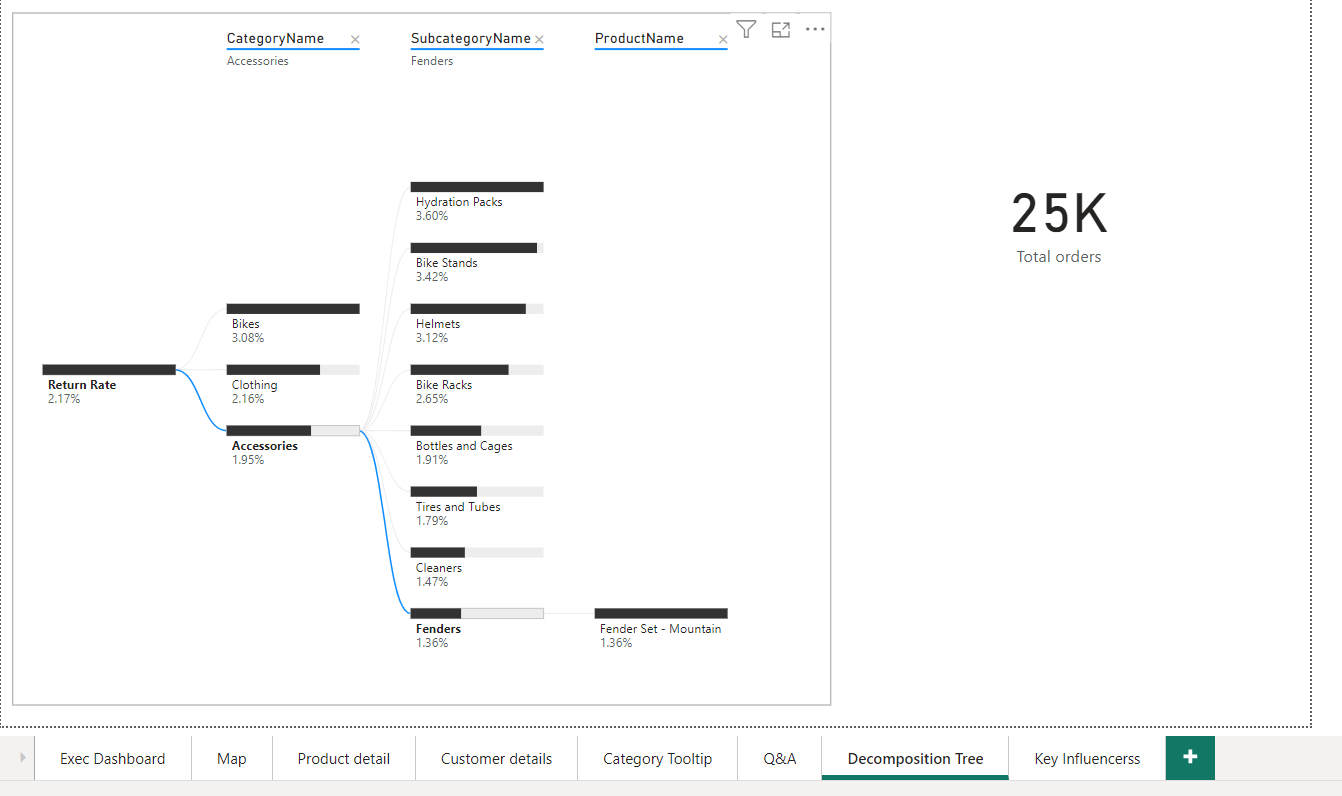

This screenshot's page, from the dashboard's own definition file:
{"tool":"powerbi","page":{"name":"Decomposition Tree","canvas":[1280,720],"ordinal":6},"visuals":[{"type":"decompositionTreeVisual","fields":{"Analyze":["Meassure Table.Return Rate"],"ExplainBy":["Product Categories Lookup.CategoryName","Product Subcategories Lookup.SubcategoryName","Product Lookup.ProductName"]},"box":[11,22,800.7,677.2],"z":0},{"type":"card","fields":{"Values":["Meassure Table.Total orders"]},"box":[889.9,56.2,289.7,330.1],"z":1000}]}

Visuals, with their boxes on the page's 1280x720 design canvas (x1, y1, x2, y2). These are canvas units, not pixel positions in the 1342x796 screenshot, which may show the page scaled, cropped or inside an application window:
decompositionTreeVisual - Meassure Table.Return Rate x Product Categories Lookup.CategoryName: 11 22 812 699
card - Meassure Table.Total orders: 890 56 1180 386
